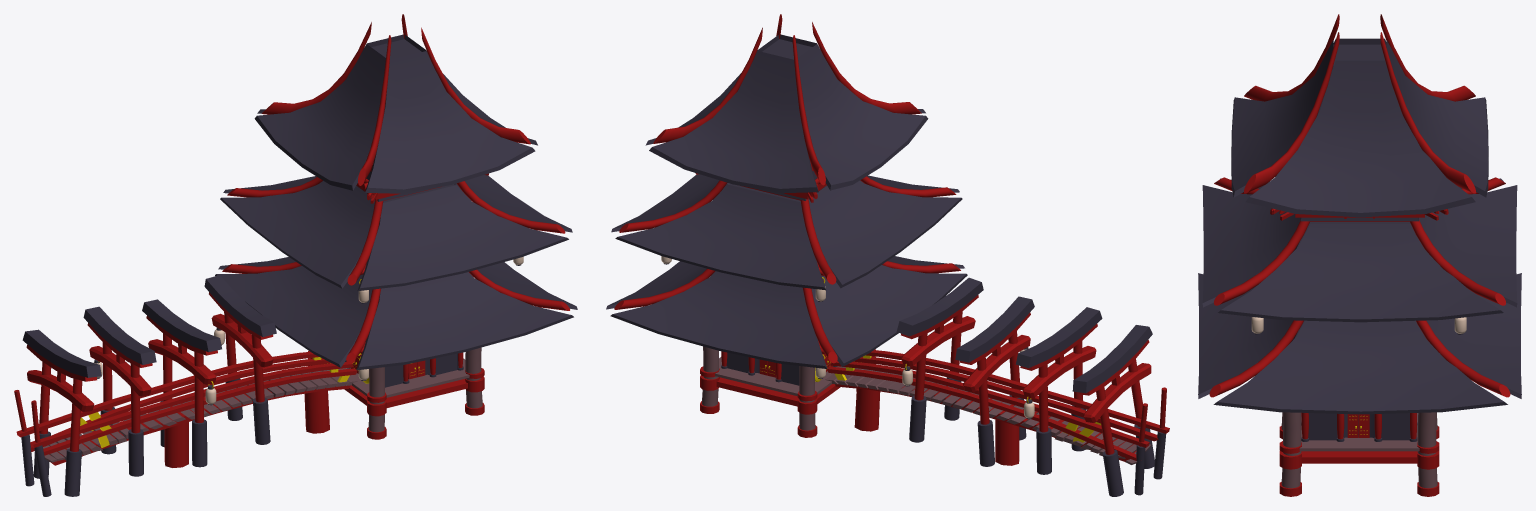
Rendered from Temple_large_02.fbx.
3 renders of one model, left to right at view 1: azimuth 30°, elevation 25°; view 2: azimuth 150°, elevation 25°; view 3: azimuth 270°, elevation 25°, orthographic. The views are drawn at different scales.
Visible parts, largest first — view 1: Temple_large_02; view 2: Temple_large_02; view 3: Temple_large_02.
Part boxes in pixels (x1=…): Temple_large_02: x1=14, y1=14, x2=577, y2=496; Temple_large_02: x1=606, y1=14, x2=1169, y2=496; Temple_large_02: x1=1198, y1=14, x2=1521, y2=496.
Size of the model in its own units: 2653 by 1981 by 1291.
